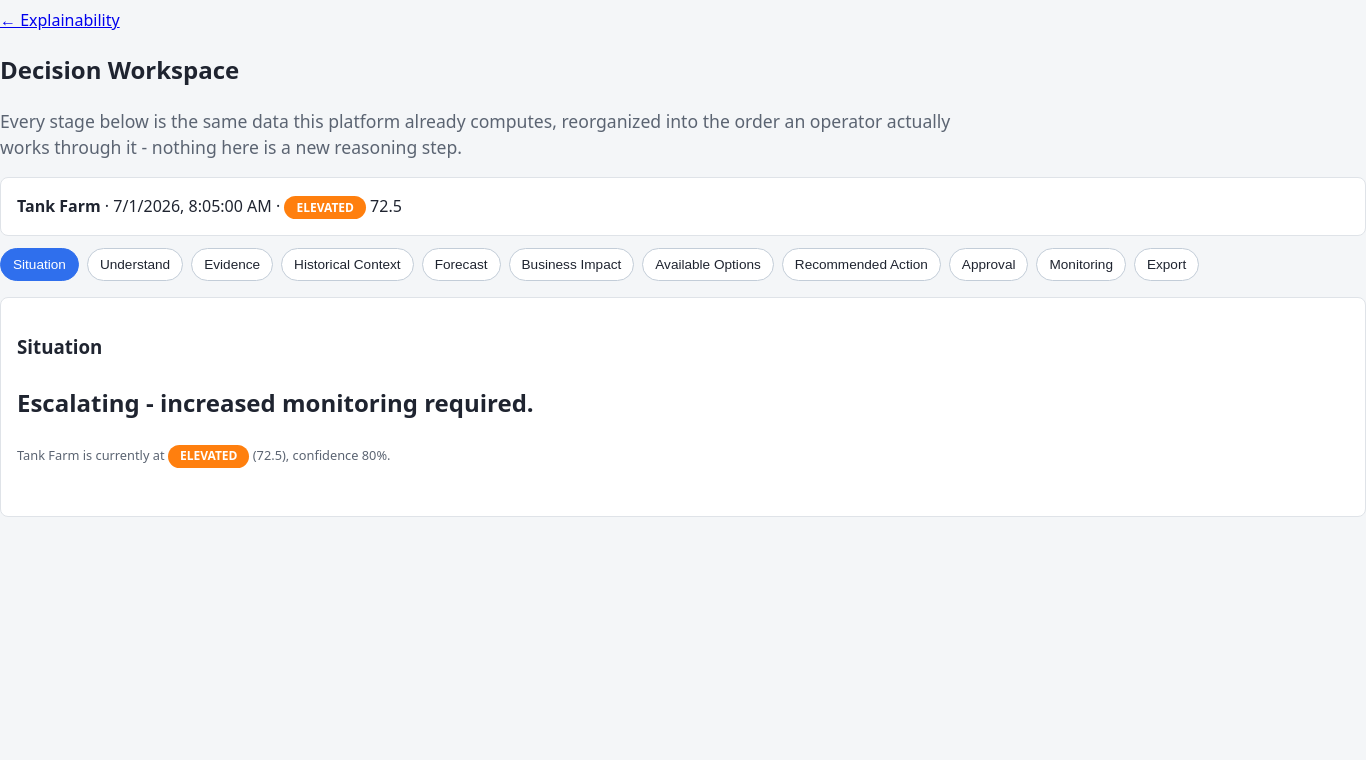
it: DecisionWorkspacePage › shows the Situation stage by default and lets an operator switch stages
Expected: the heading "Situation" is shown, [17,334,102,359]
Expected: the text "Escalating - increased monitoring required." is shown, [17,386,534,419]
Click the button "Evidence": (232, 264) [191,248,273,281]
(page scrolled)
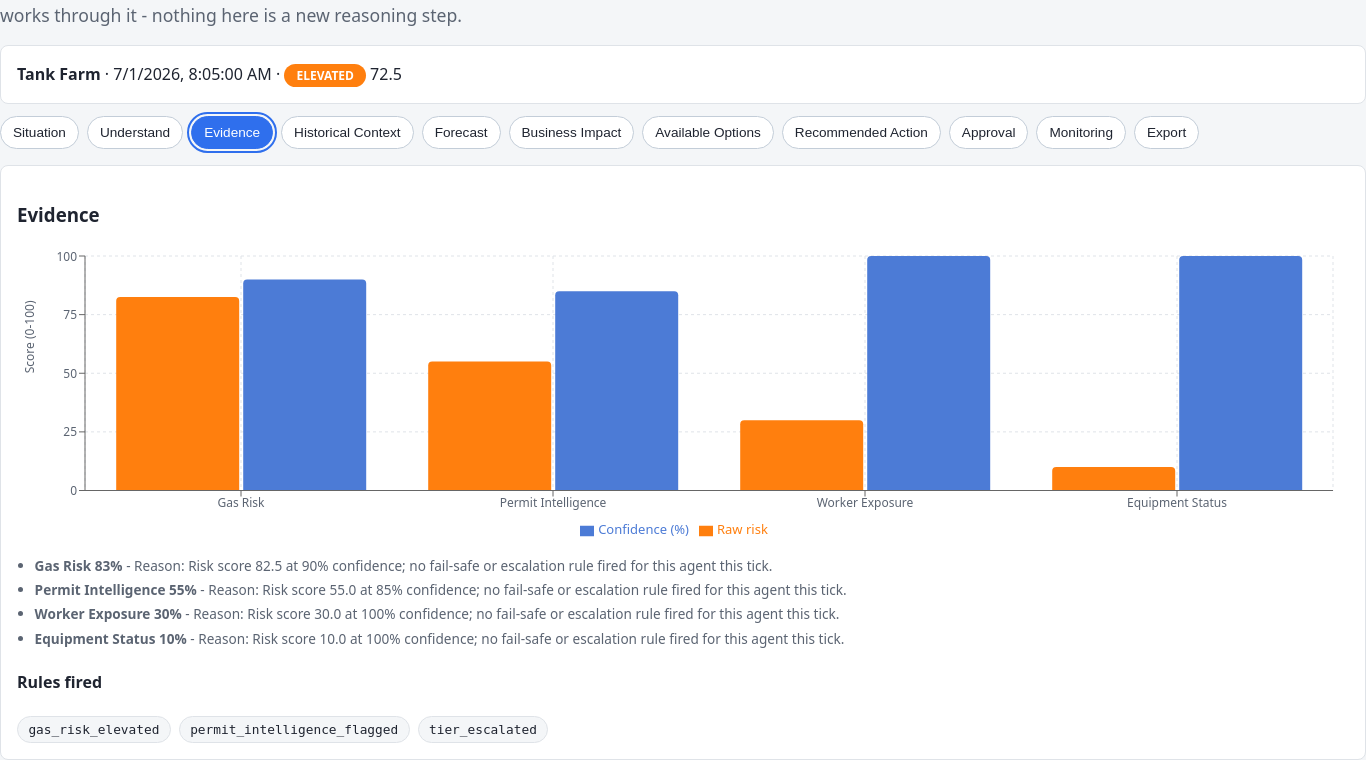
Expected: the heading "Rules fired" is shown, [17,671,102,693]
